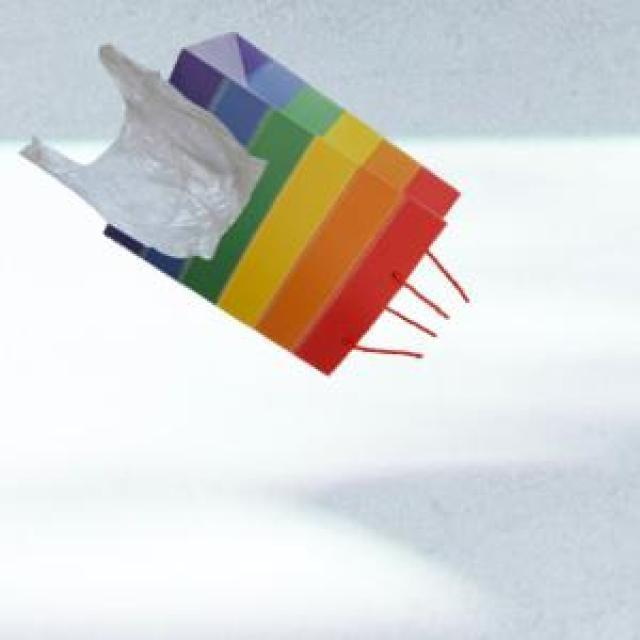paper: (100, 28, 454, 371)
